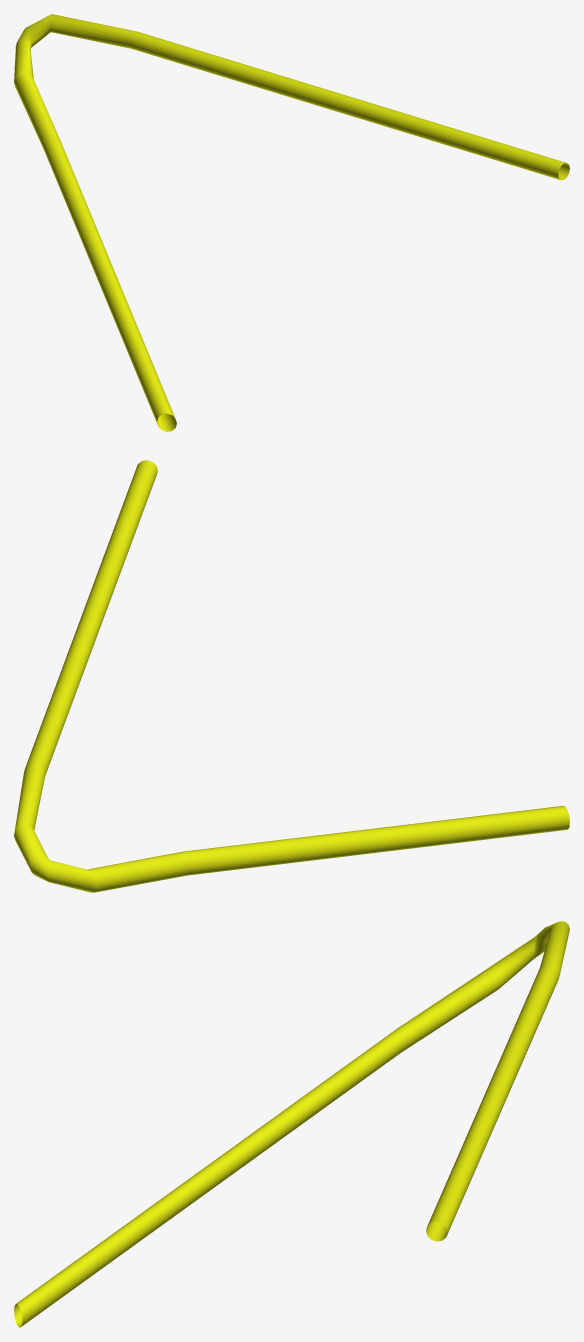
File: string1.fbx
3 renders of one model, top to bottom at view 1: azimuth 30°, elevation 25°; view 2: azimuth 150°, elevation 25°; view 3: azimuth 330°, elevation 25°, orthographic. The views are drawn at different scales.
Parts seen in each view (by area): view 1: Cylinder001; view 2: Cylinder001; view 3: Cylinder001.
Part boxes in pixels (<box>): Cylinder001: <box>14,14,569,431</box>; Cylinder001: <box>14,460,569,892</box>; Cylinder001: <box>14,921,569,1327</box>.
Bounding box in the file's own units: 122 × 59.25 × 175.
